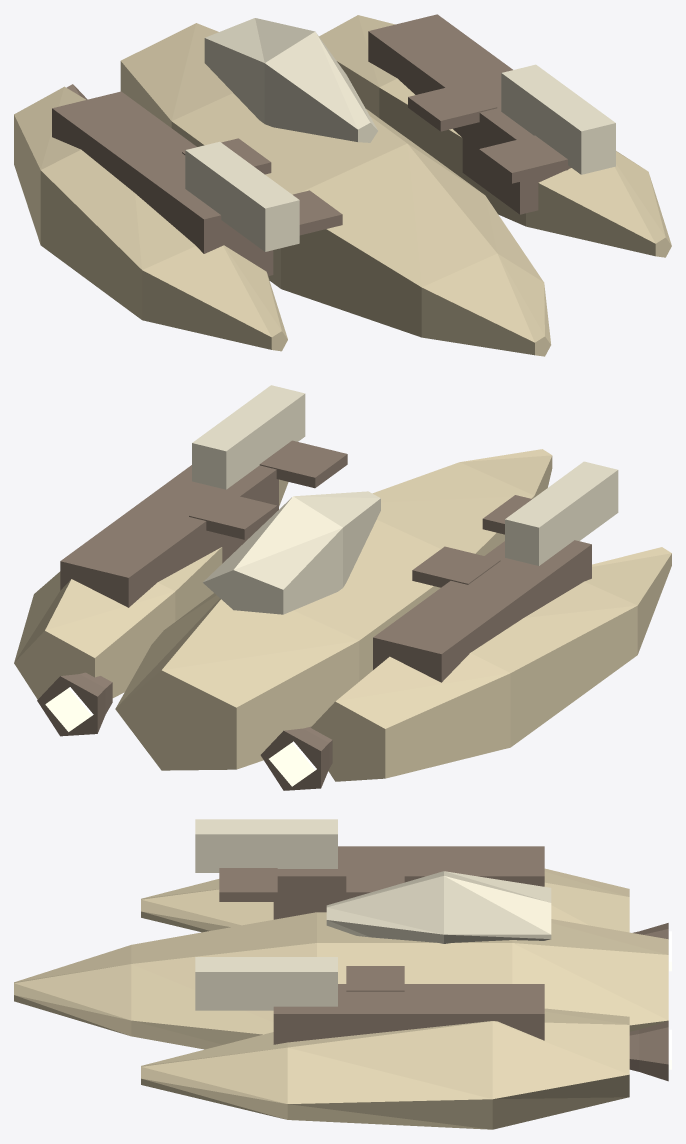
The picture shows the model from 3 angles, top to bottom: view 1: azimuth 30°, elevation 25°; view 2: azimuth 150°, elevation 25°; view 3: azimuth 270°, elevation 25°; orthographic projection. The views are drawn at different scales.
Bounding box in the file's own units: 14.63 × 5.71 × 18.45.
